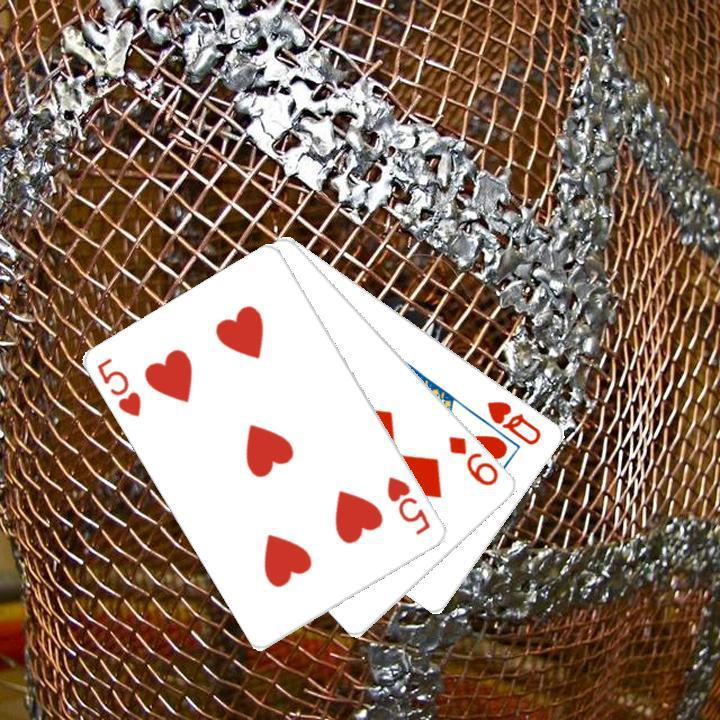5: (93, 353, 145, 420), (382, 472, 433, 538)
9: (444, 431, 502, 488)
Q: (483, 396, 544, 447)
